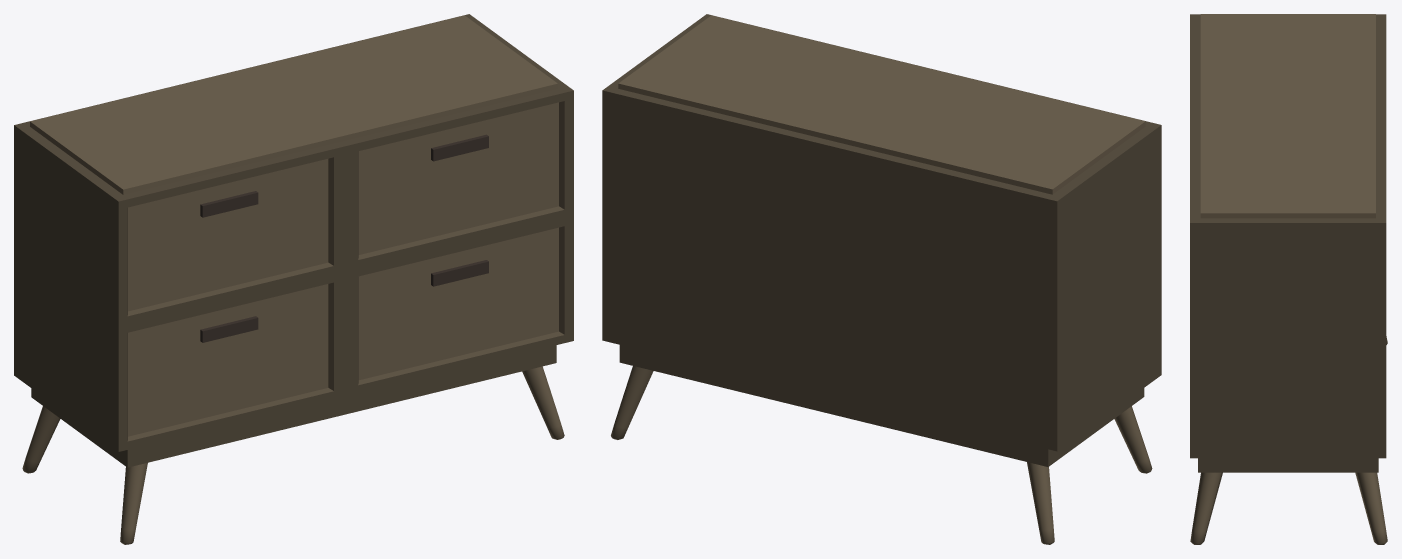
Rendered from Drawer_4.gltf.
The picture shows the model from 3 angles, left to right: view 1: azimuth 30°, elevation 25°; view 2: azimuth 150°, elevation 25°; view 3: azimuth 270°, elevation 25°; orthographic projection. The views are drawn at different scales.
Visible parts, largest first — view 1: Drawer_4; view 2: Drawer_4; view 3: Drawer_4.
Part boxes in pixels (left/top/right/bottom): Drawer_4: left=14, top=14, right=573, bottom=544; Drawer_4: left=602, top=14, right=1161, bottom=544; Drawer_4: left=1190, top=14, right=1387, bottom=544.
Bounding box in the file's own units: 2.79 × 2.07 × 1.12.
